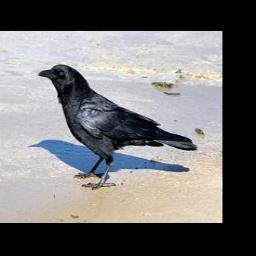Crow: (37, 64, 197, 190)
